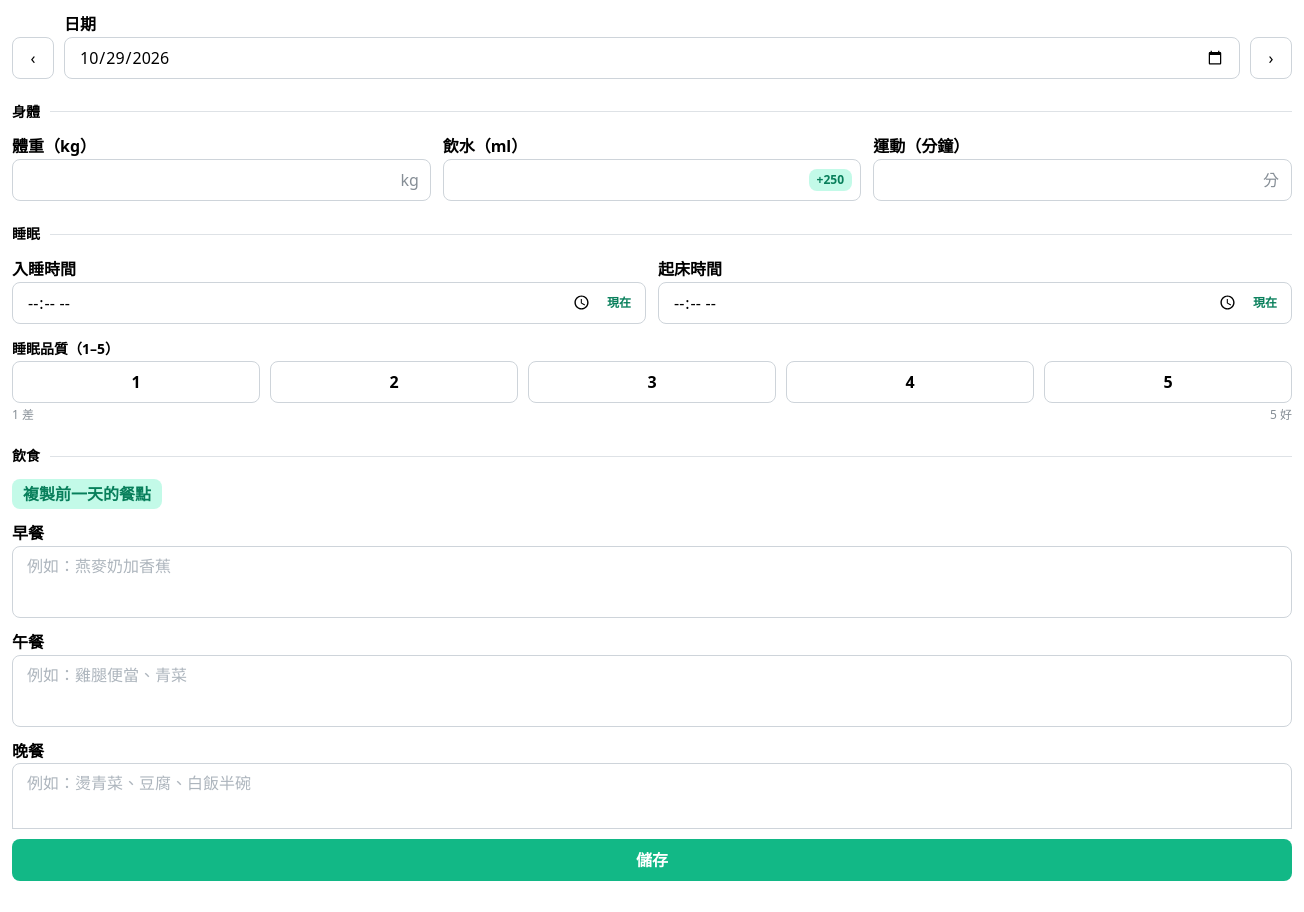
Test: EntryForm：快速輸入 › 「現在」按鈕把入睡、起床時間填成目前的本地時間
This screenshot has width=1304, height=912.
Click the button with aria-label "填入現在時刻：起床" at coordinates (1265, 303), box [1245, 292, 1285, 314]
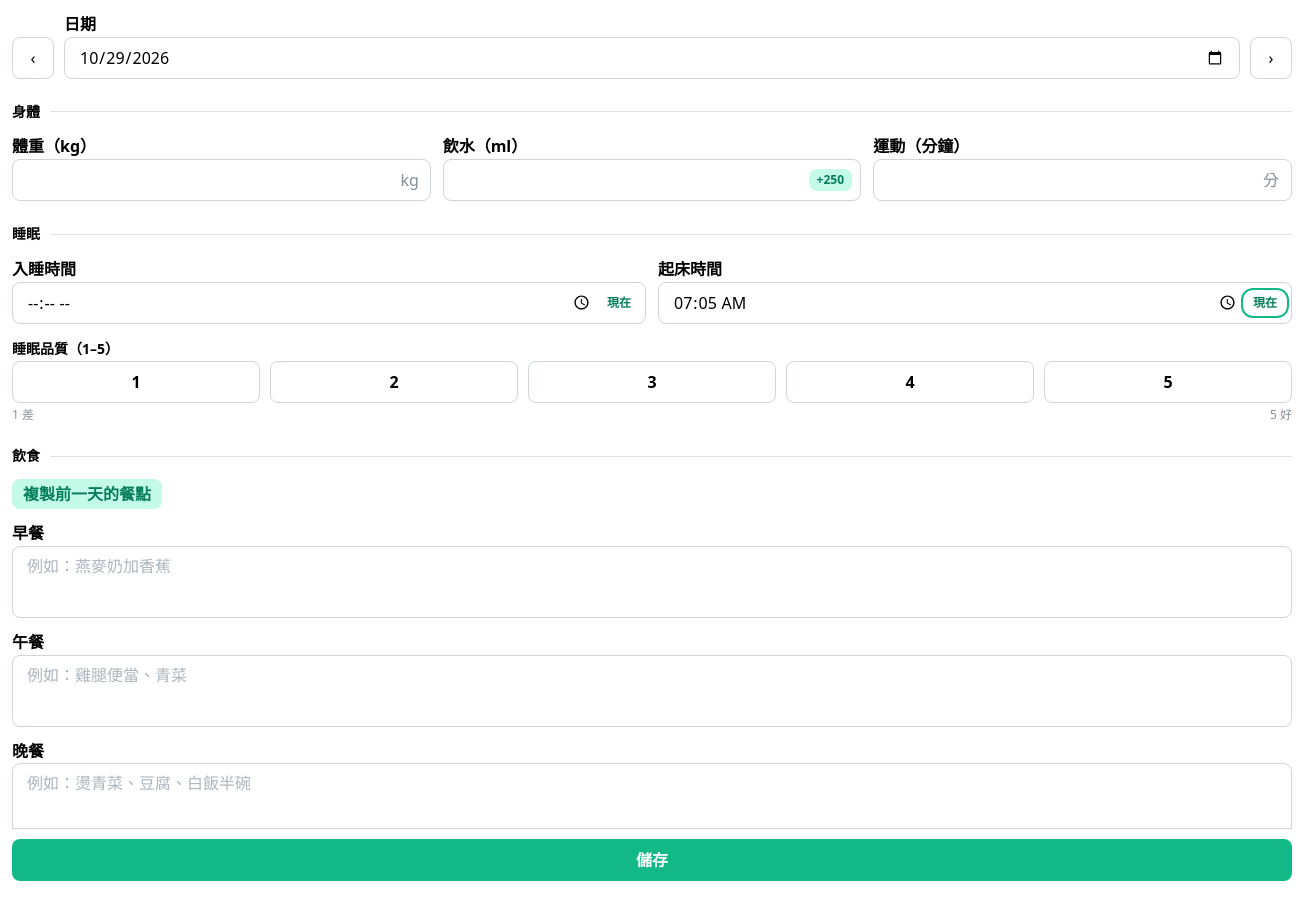
expect the time field labelled "入睡時間" is empty: met, box [12, 282, 646, 324]
expect the time field labelled "起床時間" holds "07:05": met, box [658, 282, 1292, 324]
Click the button with aria-label "填入現在時刻：入睡" at coordinates (619, 303), box [599, 292, 639, 314]
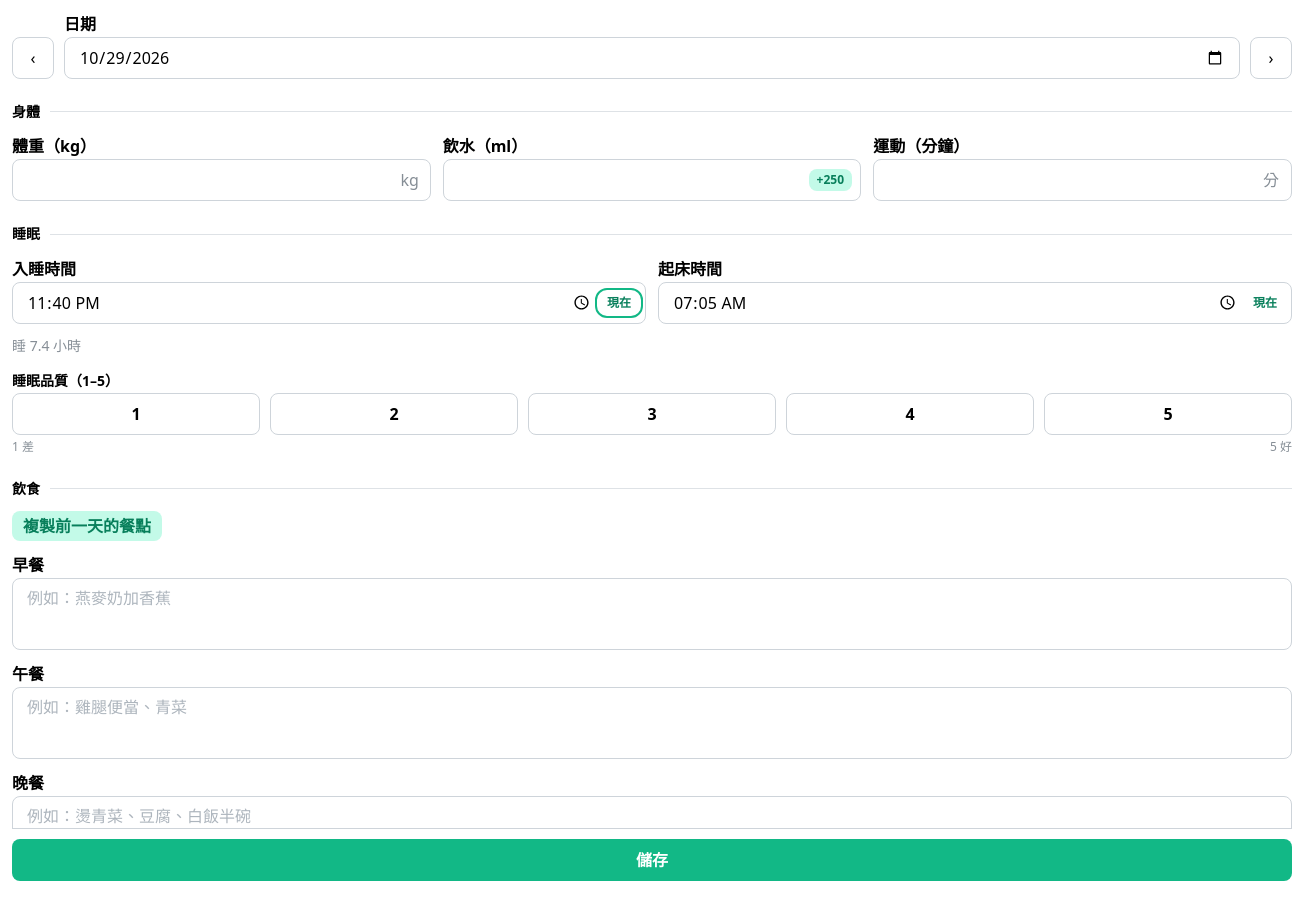
expect the time field labelled "入睡時間" holds "23:40": met, box [12, 282, 646, 324]
